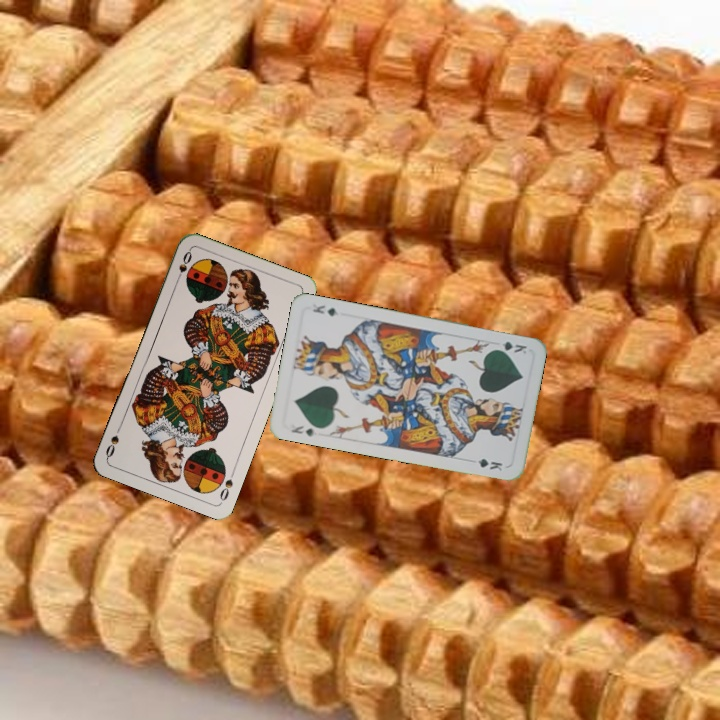GK: (490, 337, 529, 357), (287, 421, 316, 439)
SO: (172, 246, 194, 285), (216, 465, 237, 503)
